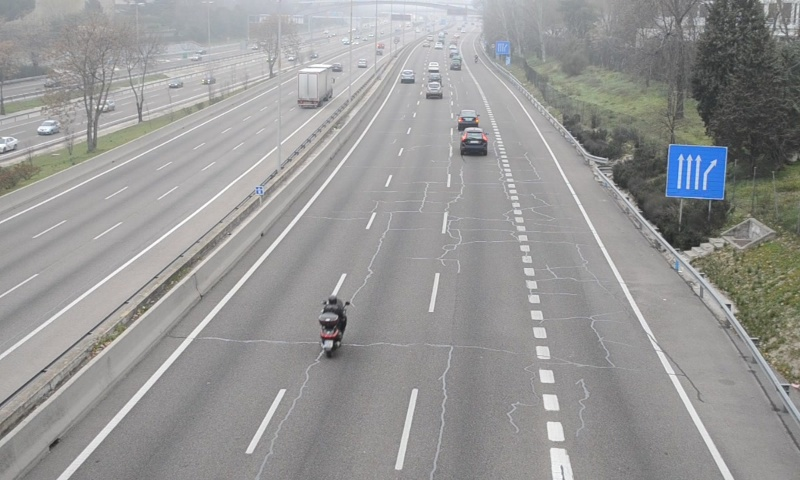car: (459, 127, 488, 154), (456, 110, 479, 129), (424, 81, 443, 99)
motorcycle: (319, 294, 351, 358)
